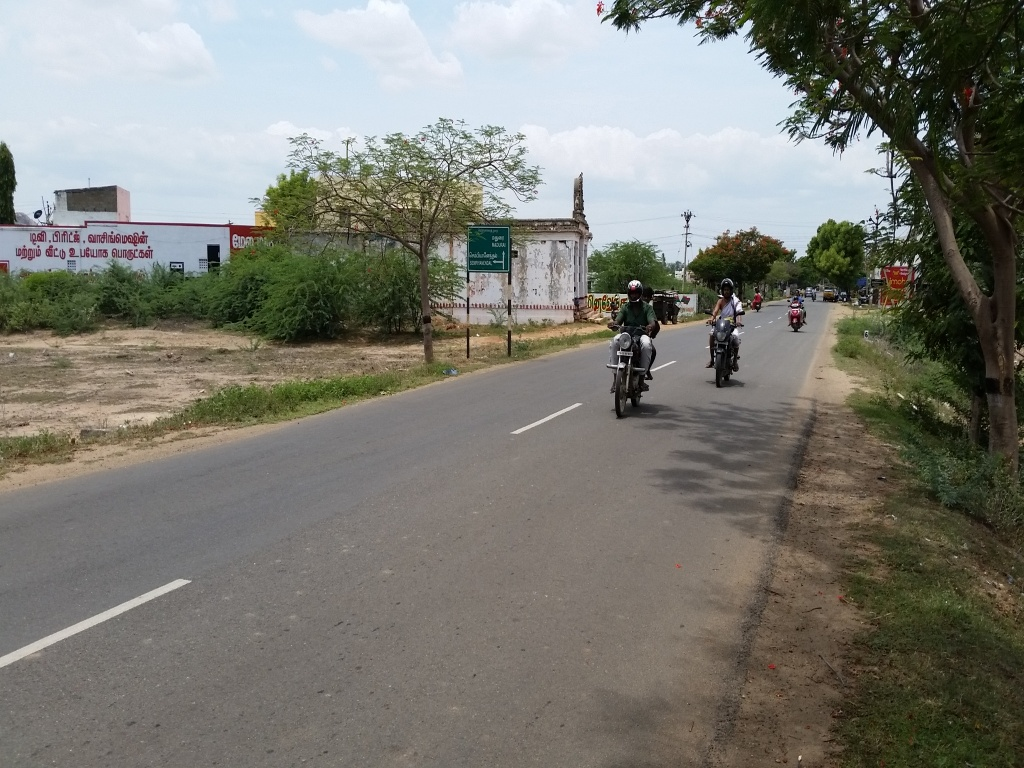biker: (596, 256, 679, 429), (694, 257, 758, 400)
helmet: (717, 273, 740, 305), (624, 277, 642, 304)
nohelmet: (643, 282, 656, 310)
